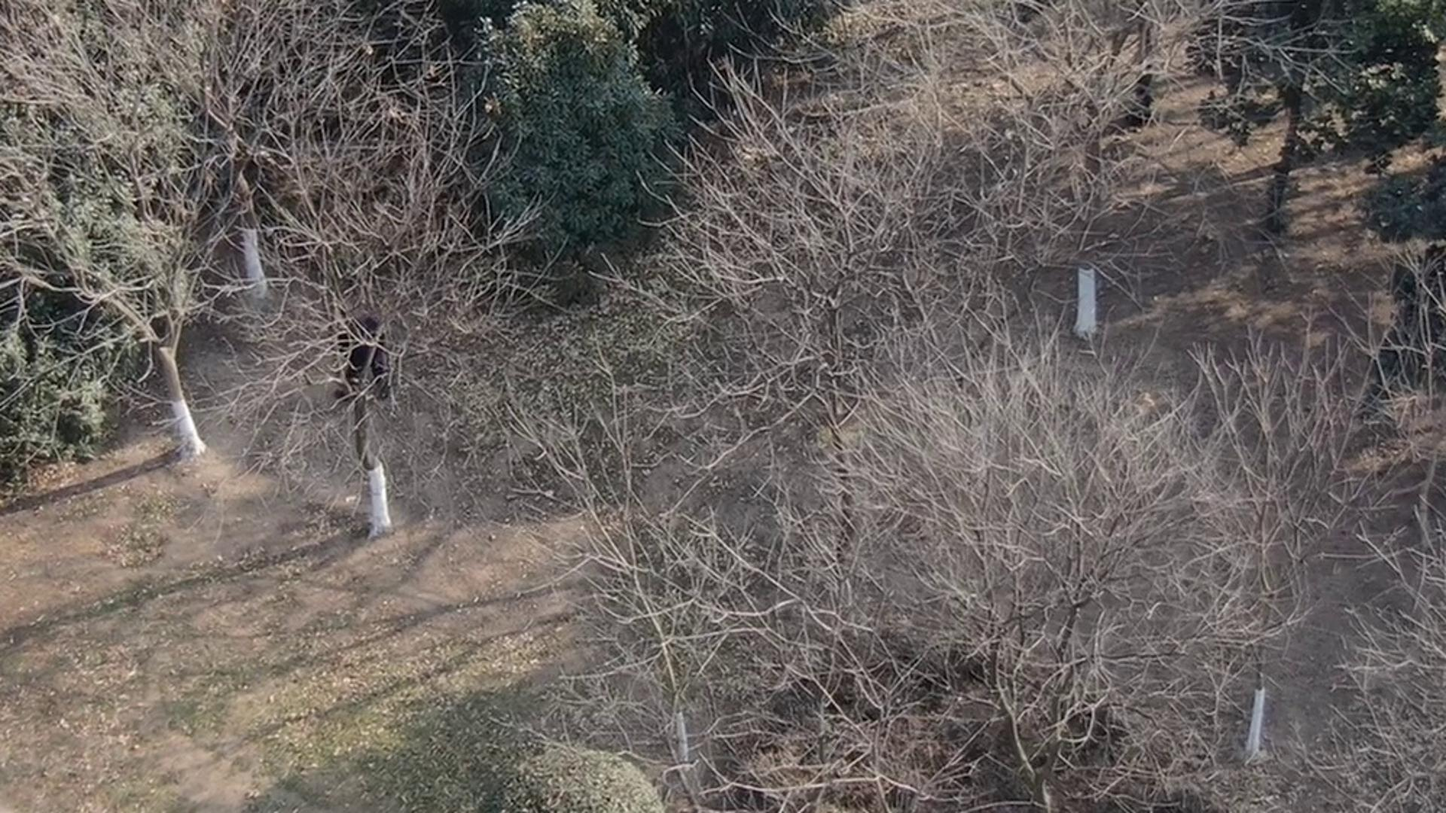human: (316, 276, 377, 386)
